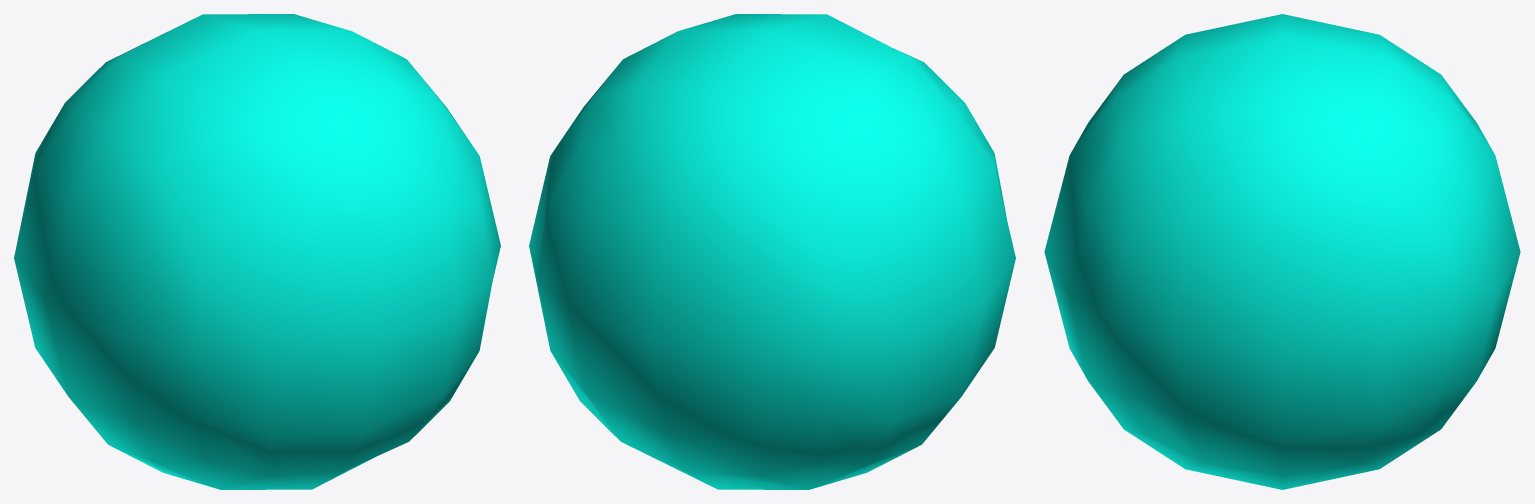
The model's file is 0_skybox.fbx.
The picture shows the model from 3 angles, left to right: view 1: azimuth 30°, elevation 25°; view 2: azimuth 150°, elevation 25°; view 3: azimuth 270°, elevation 25°; orthographic projection. The views are drawn at different scales.
Parts seen in each view (by area): view 1: 0_skybox1; view 2: 0_skybox1; view 3: 0_skybox1.
Boxes of the visible parts, box(x1,y1,x2,y2) form: 0_skybox1: box(14, 14, 500, 489); 0_skybox1: box(529, 14, 1015, 489); 0_skybox1: box(1044, 14, 1520, 489).
Bounding box in the file's own units: 1523 × 1523 × 1523.
Materials: 3 (3 with a texture image).
